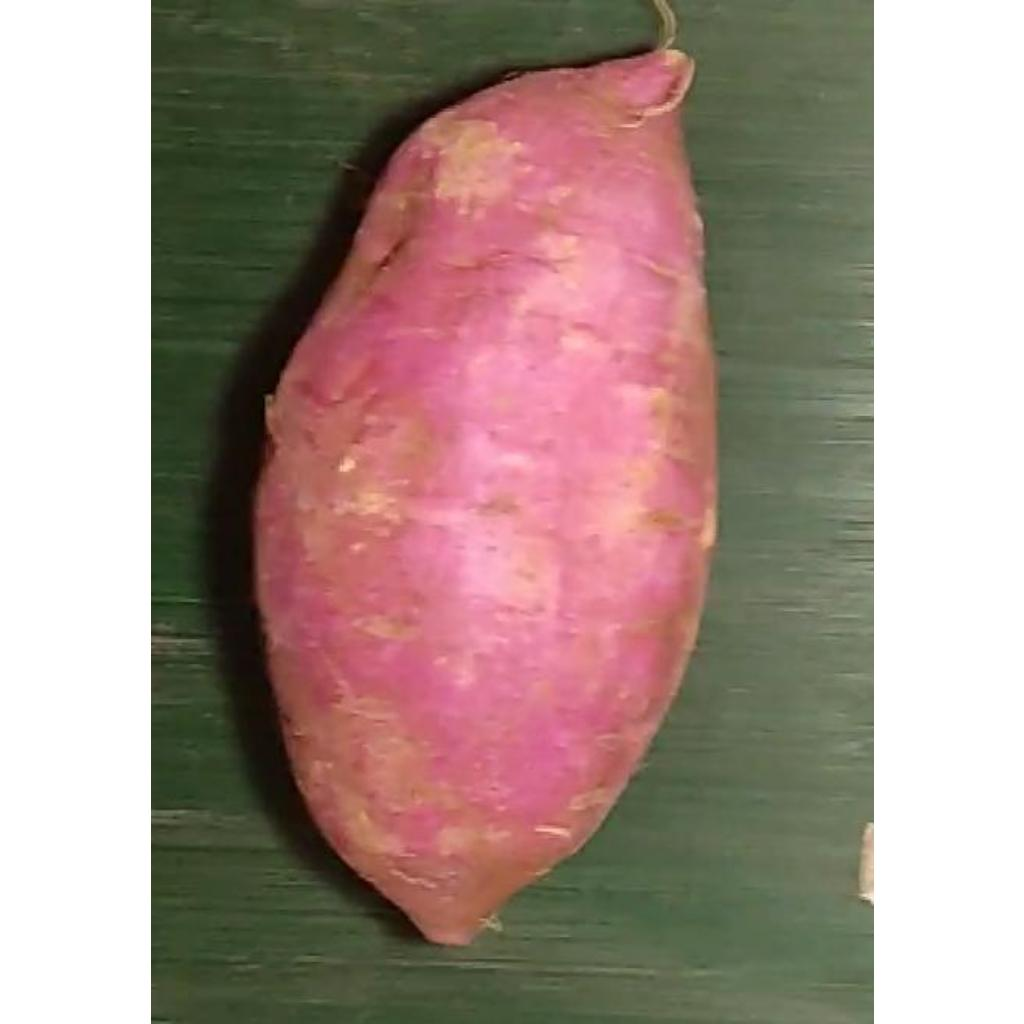Sweet Potato: (256, 43, 718, 950)
